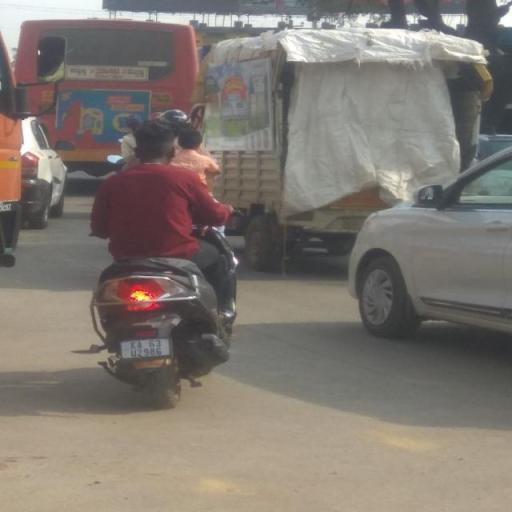bike: (74, 114, 258, 410)
numberplate: (120, 338, 171, 358)
withouthelmet: (135, 121, 175, 164)
